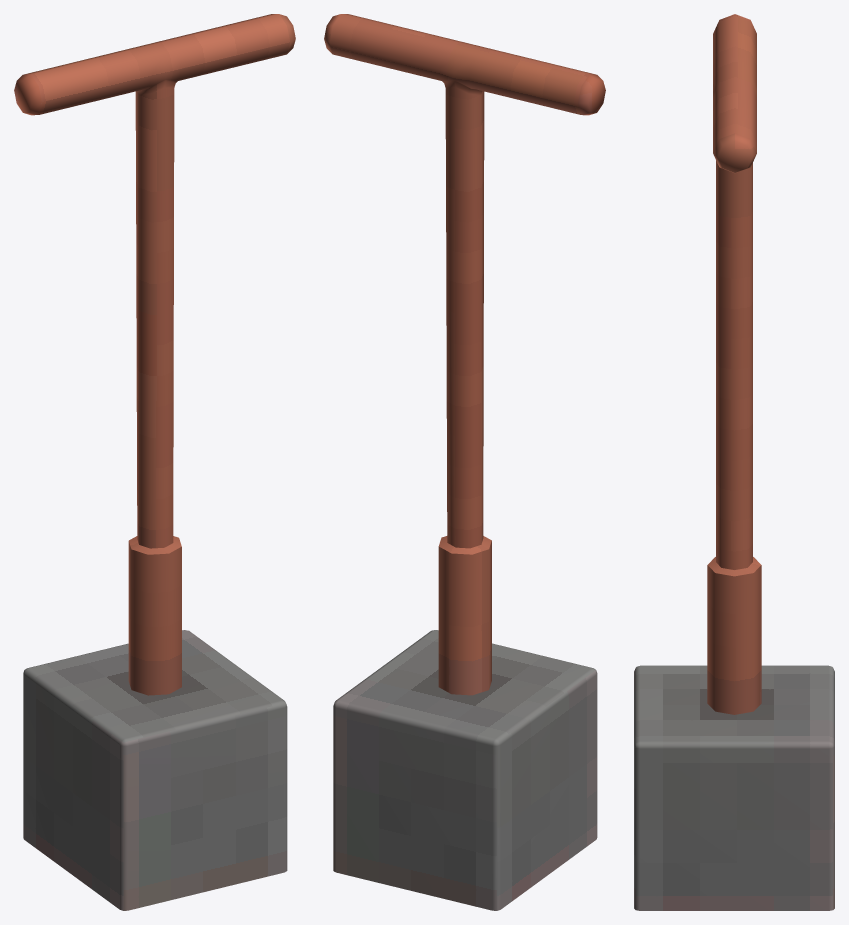
Rendered from objects_un_pobjperch01.gltf.
The picture shows the model from 3 angles, left to right: view 1: azimuth 30°, elevation 25°; view 2: azimuth 150°, elevation 25°; view 3: azimuth 270°, elevation 25°; orthographic projection.
Visible parts, largest first — view 1: concretebase_shape:objects_un_pobjperch01_perch, stand_shape:objects_un_pobjperch01_perch; view 2: concretebase_shape:objects_un_pobjperch01_perch, stand_shape:objects_un_pobjperch01_perch; view 3: concretebase_shape:objects_un_pobjperch01_perch, stand_shape:objects_un_pobjperch01_perch.
Boxes of the visible parts, x1,y1,x2,y2 form: concretebase_shape:objects_un_pobjperch01_perch: (23, 630, 287, 910); stand_shape:objects_un_pobjperch01_perch: (14, 14, 295, 695); concretebase_shape:objects_un_pobjperch01_perch: (333, 630, 597, 910); stand_shape:objects_un_pobjperch01_perch: (324, 14, 605, 695); concretebase_shape:objects_un_pobjperch01_perch: (634, 665, 834, 910); stand_shape:objects_un_pobjperch01_perch: (707, 14, 761, 714).
Size of what is drawn, in the model's own units: 0.5103 by 1.5 by 0.3411.
1 material, 1 textured.
